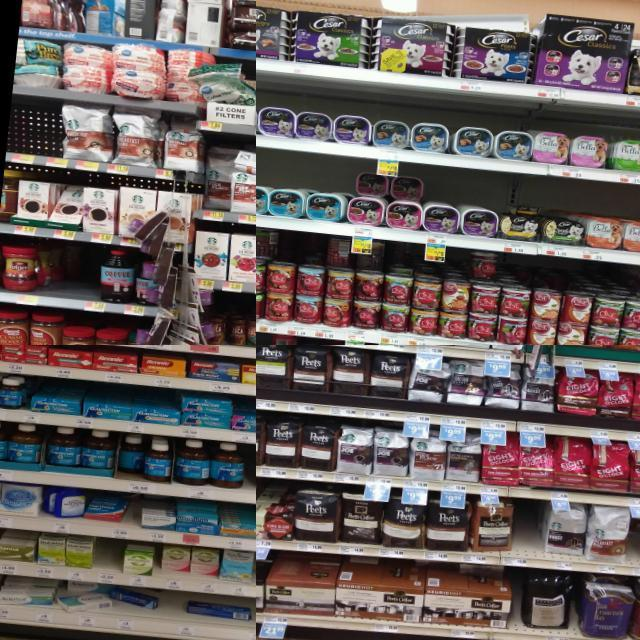Imprecise: (330, 232, 380, 322), (351, 165, 421, 228), (56, 582, 162, 614), (202, 139, 242, 211), (470, 248, 500, 340), (184, 596, 254, 620), (116, 432, 144, 478)
